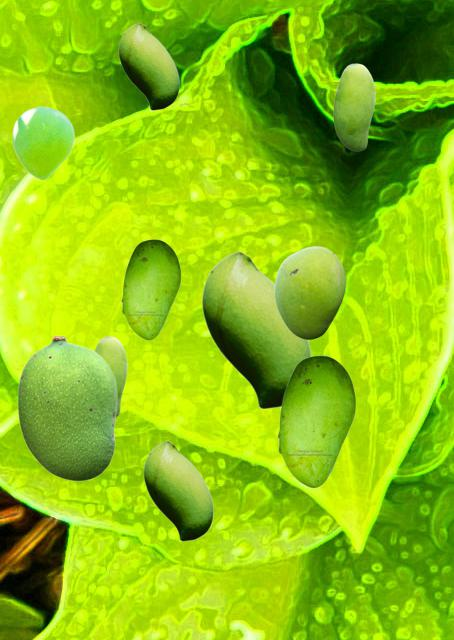green_mango: (201, 250, 310, 408), (17, 335, 116, 480), (277, 355, 355, 487), (143, 440, 212, 540), (274, 246, 344, 338), (121, 239, 180, 339), (118, 22, 178, 109), (12, 106, 73, 179), (333, 63, 374, 150), (94, 336, 126, 417)
